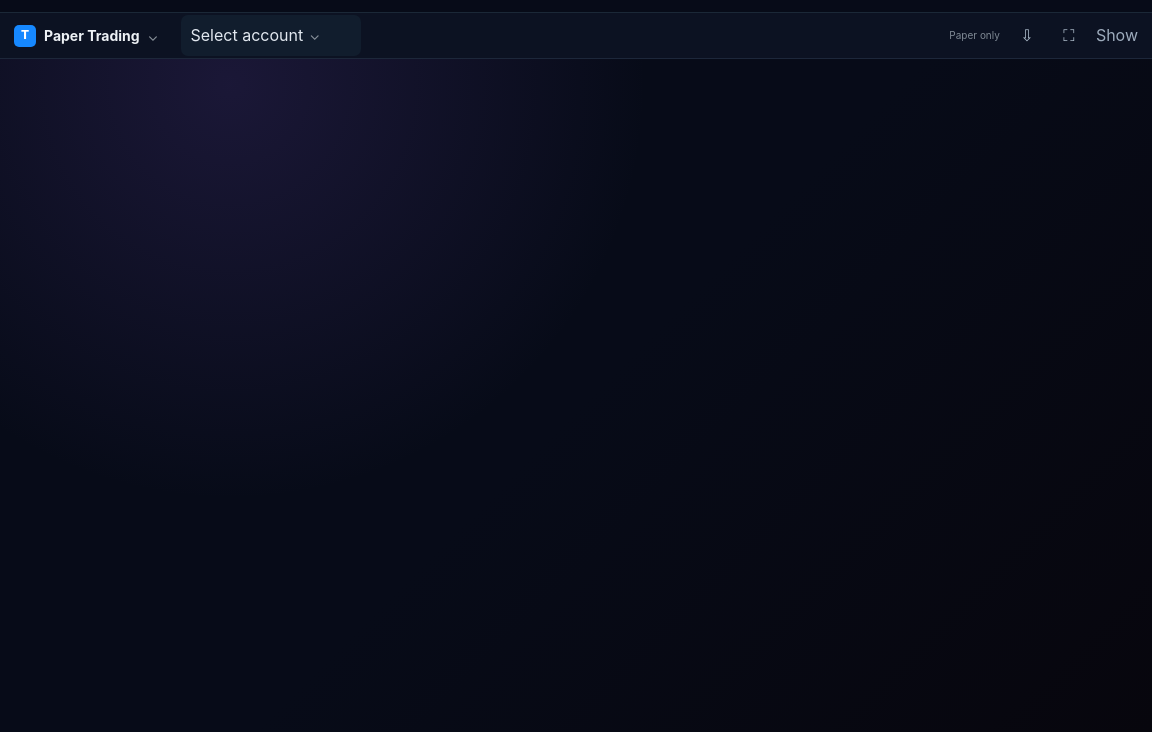
Test: TradingTerminalDock › minimizes the dock while keeping the restore control visible
Check: the text "No paper account" is not shown
Click the button with aria-label "Restore paper trading panel" at x=1117, y=36, box [1096,23,1138,48]
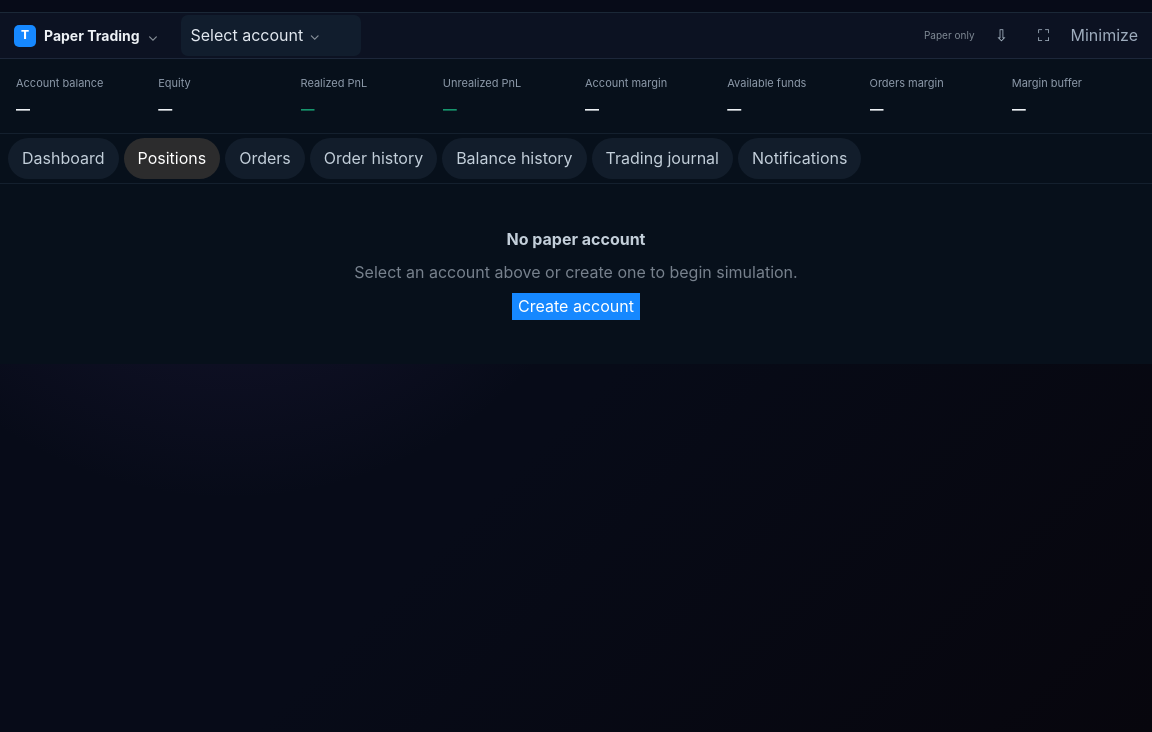
Check: the text "No paper account" is shown, box [506,229,646,249]
Click the button with aria-label "Minimize paper trading panel" at x=1104, y=36, box [1070,23,1138,48]
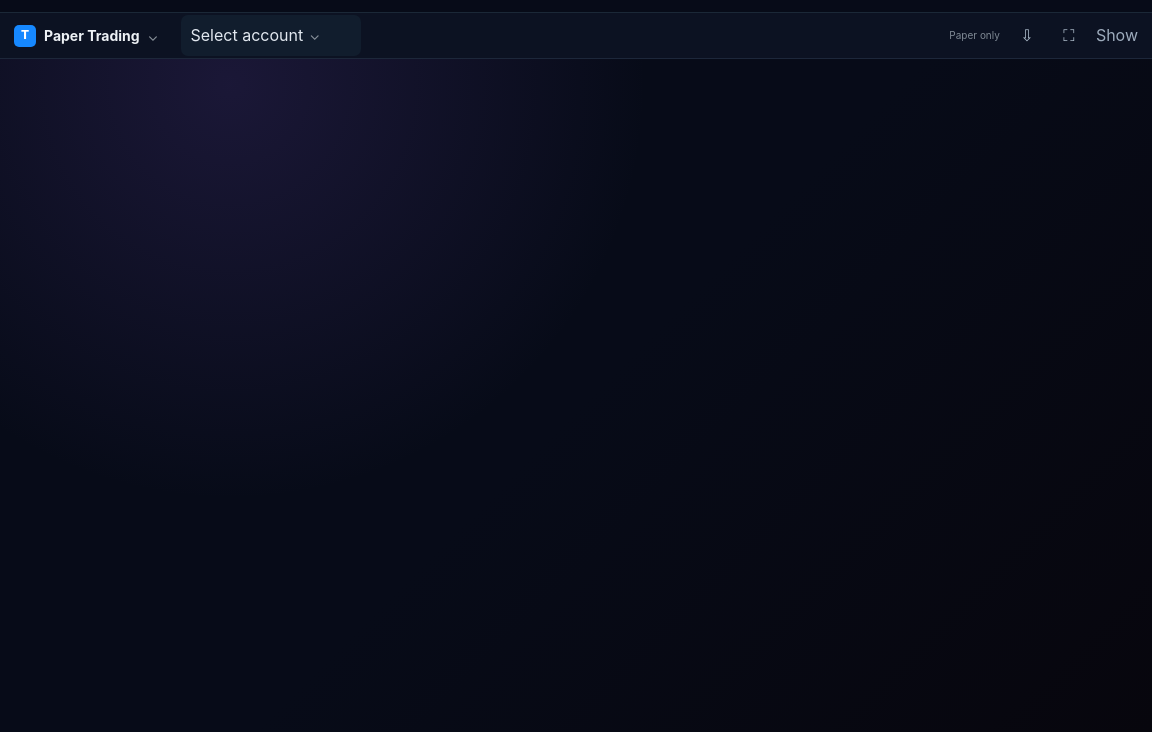
Check: the text "No paper account" is gone
Check: the button with aria-label "Restore paper trading panel" is collapsed
Click the button with aria-label "Restore paper trading panel" at x=1117, y=36, box [1096,23,1138,48]
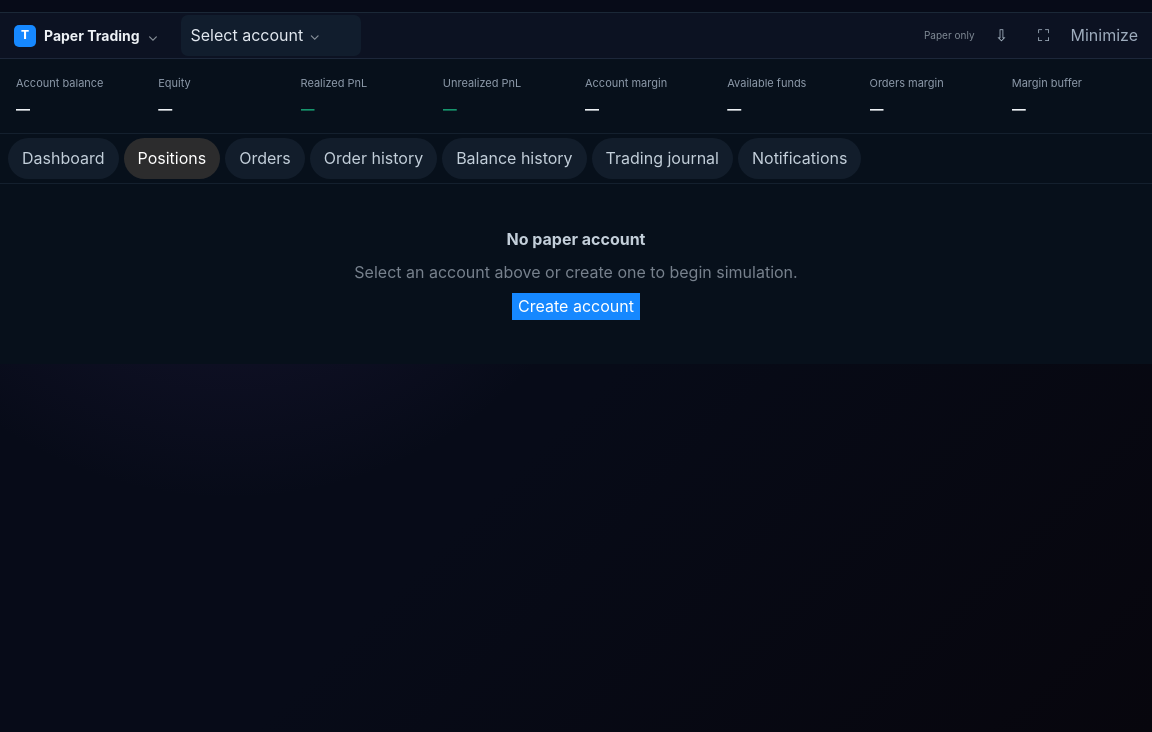
Check: the text "No paper account" is shown, box [506,229,646,249]
